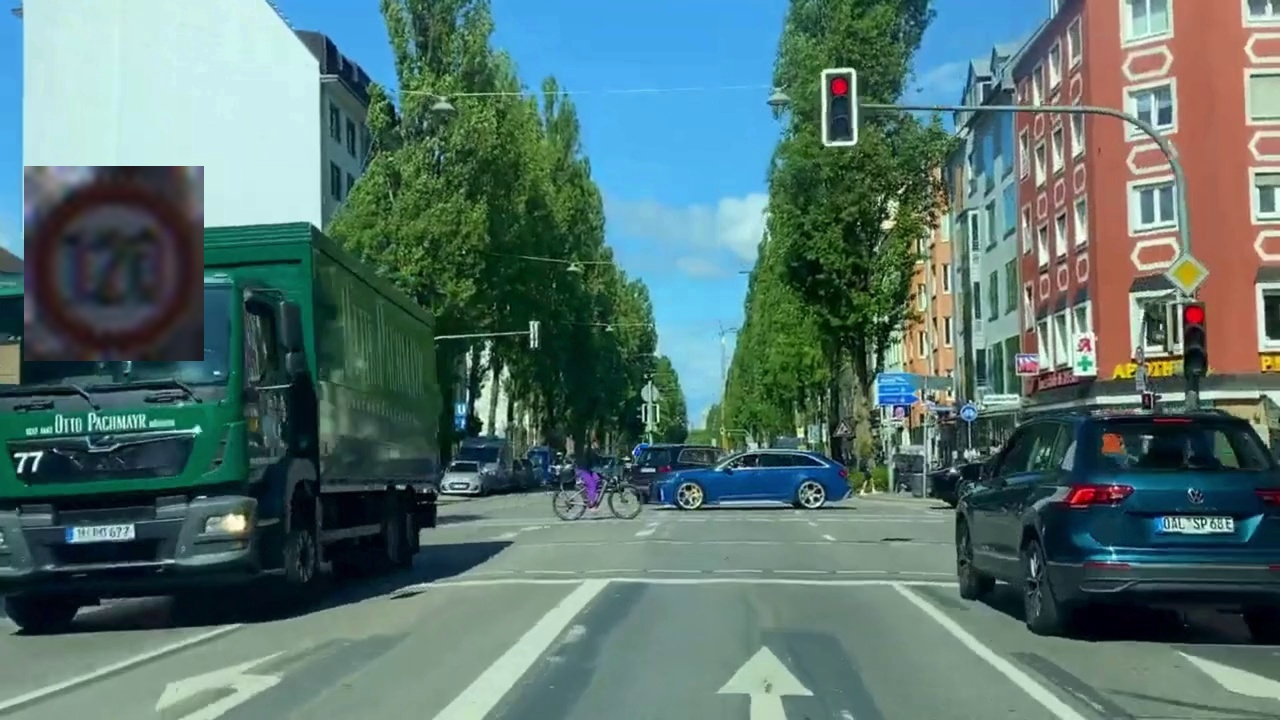Speed 120: (24, 166, 204, 361)
